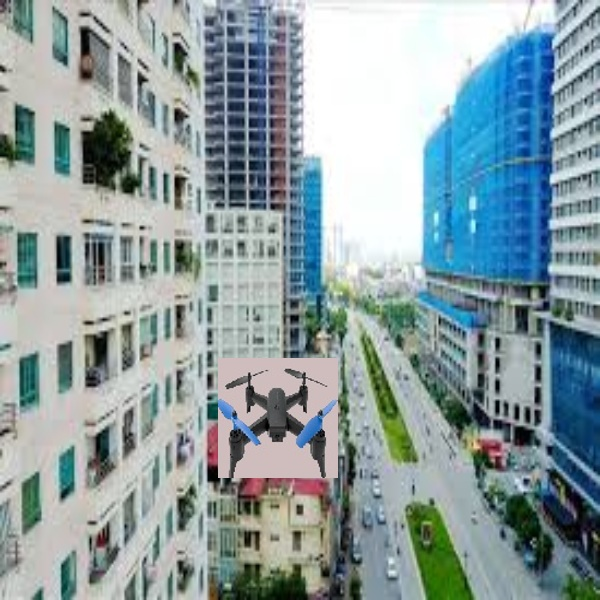drone: (218, 358, 333, 481)
